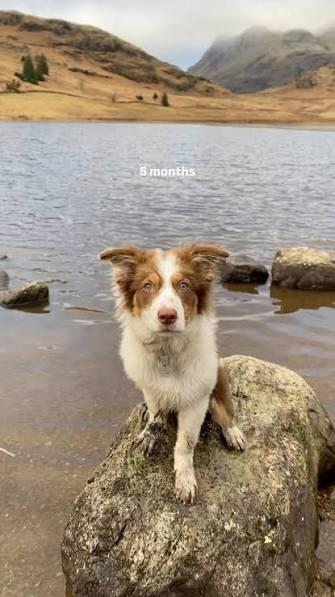puppy-dog: (96, 237, 248, 508)
